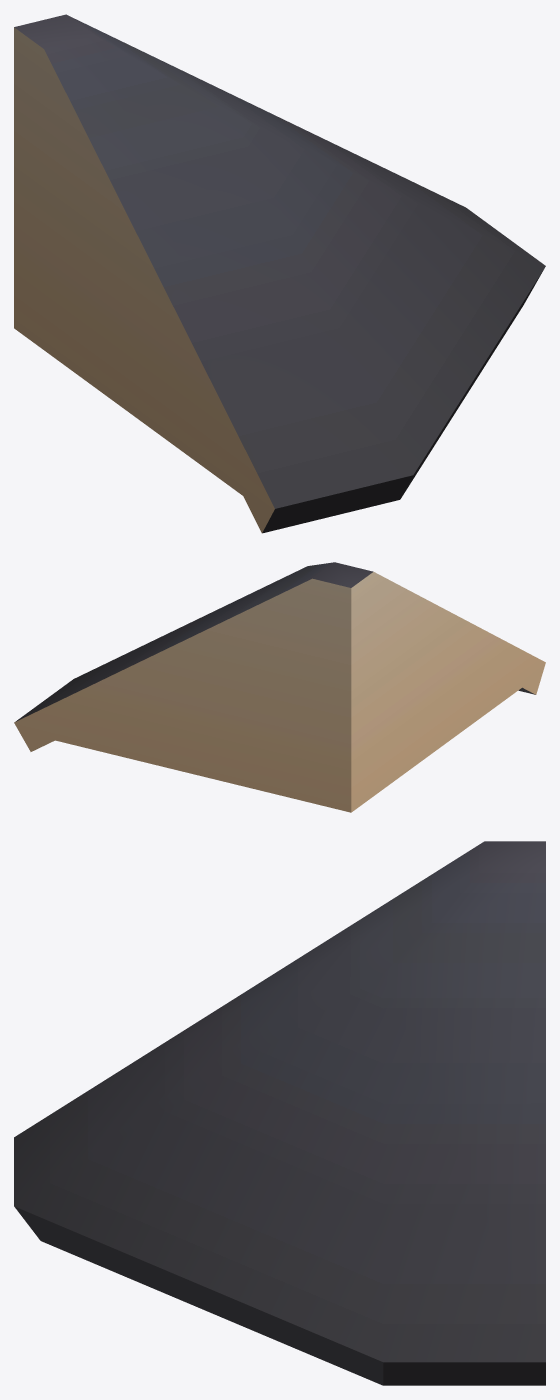
The model's file is kenney-modular-buildings-roof-slanted-corner-a.glb.
3 renders of one model, top to bottom at view 1: azimuth 30°, elevation 25°; view 2: azimuth 150°, elevation 25°; view 3: azimuth 270°, elevation 25°, orthographic. The views are drawn at different scales.
Visible parts, largest first — view 1: roof-slanted-corner-a; view 2: roof-slanted-corner-a; view 3: roof-slanted-corner-a.
Part boxes in pixels (x1,y1,x2,y2): roof-slanted-corner-a: (14,14,545,533); roof-slanted-corner-a: (14,562,545,812); roof-slanted-corner-a: (14,841,545,1385).
Bounding box in the file's own units: 1.14 × 0.782 × 1.14.
Materials: 1 (1 with a texture image).
